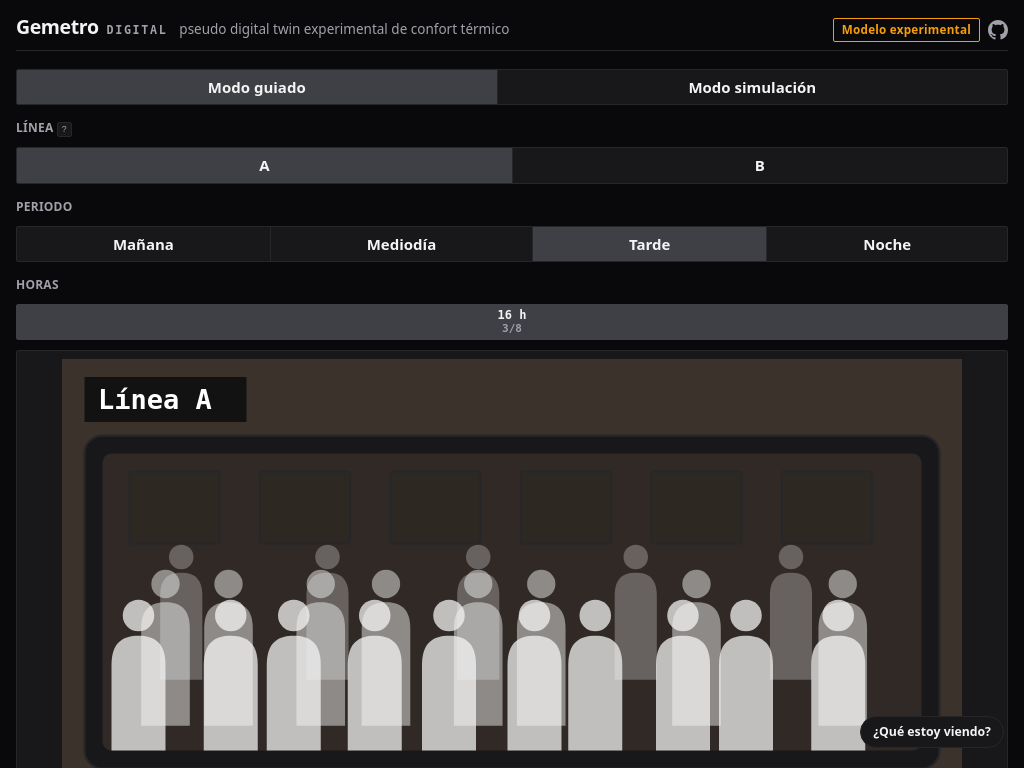
Test: simulation mode › shows a chart skeleton while the daily profile first loads
Expected: the element named "Modo del simulador" is shown, [16,68,1008,105]
Step 1. Click the button "Modo simulación" → (752, 87), box [498,70,1007,104]
(page scrolled)
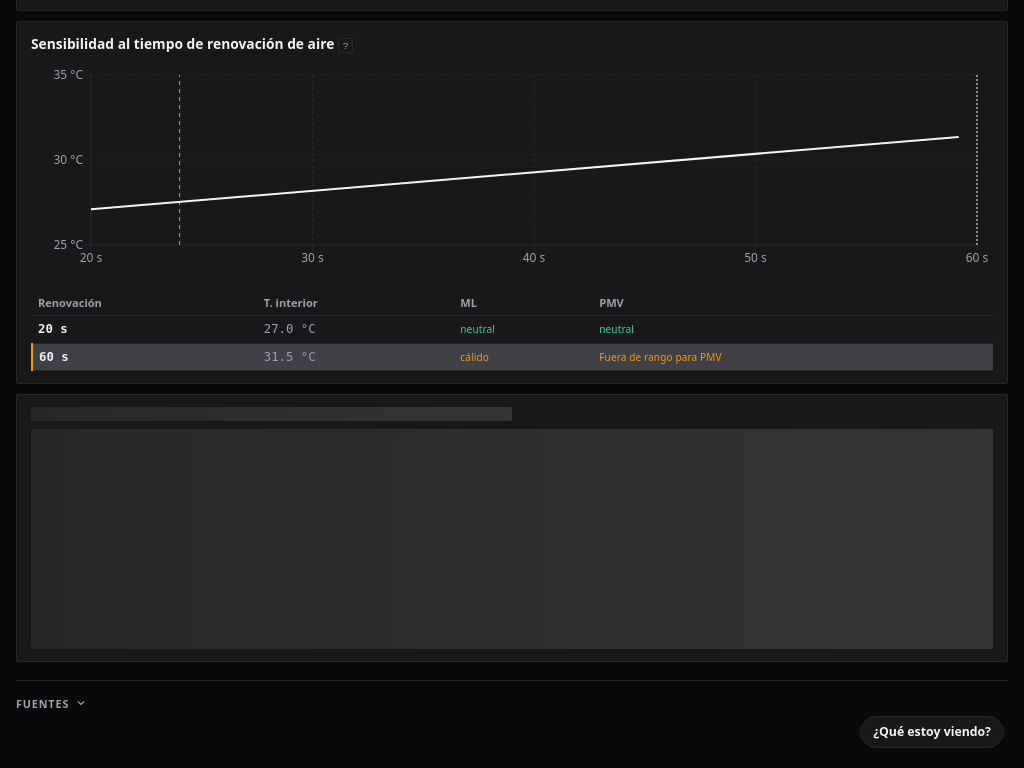
Expected: the element with class "skeleton-chart" is shown, [31,429,993,649]
